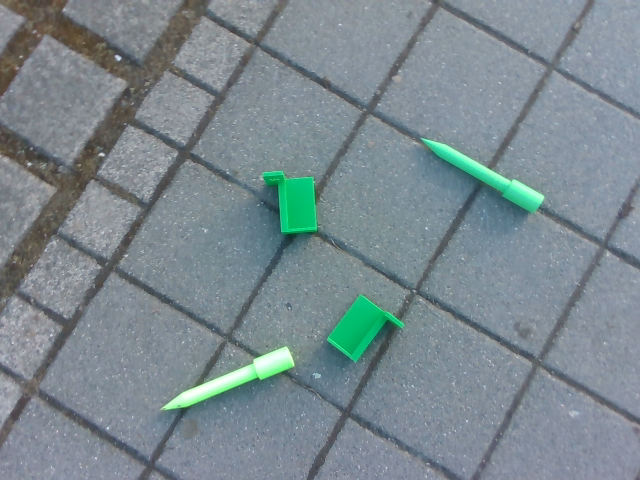Probe: (417, 129, 554, 222), (155, 341, 301, 418)
